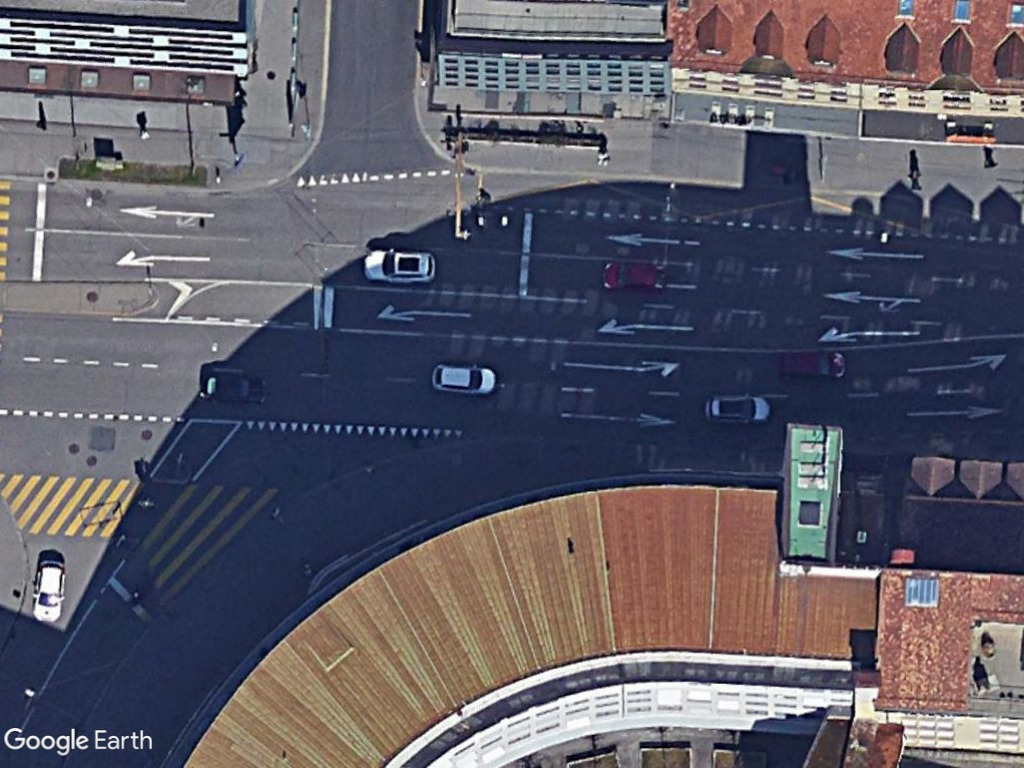car: (360, 248, 438, 285), (601, 260, 670, 296), (428, 363, 500, 397), (33, 561, 69, 625)
